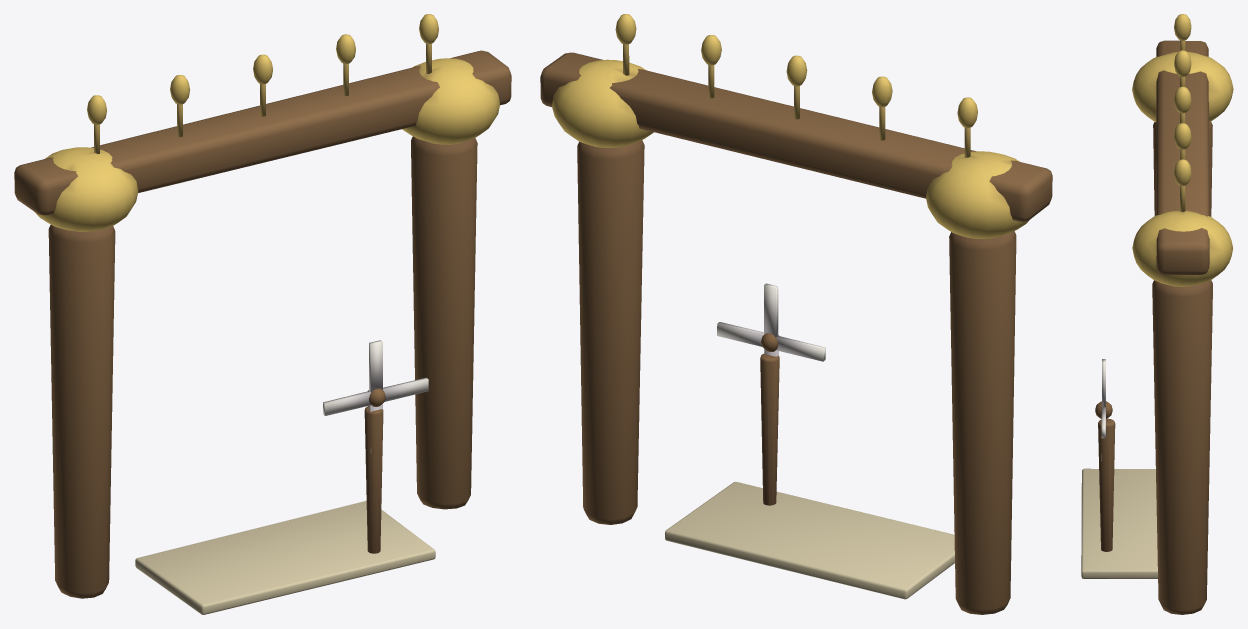
The picture shows the model from 3 angles, left to right: view 1: azimuth 30°, elevation 25°; view 2: azimuth 150°, elevation 25°; view 3: azimuth 270°, elevation 25°; orthographic projection. The views are drawn at different scales.
Visible parts, largest first — view 1: gate_4136e5ae; view 2: gate_4136e5ae; view 3: gate_4136e5ae.
Boxes of the visible parts, x1=… form: gate_4136e5ae: x1=14, y1=14, x2=511, y2=614; gate_4136e5ae: x1=540, y1=14, x2=1052, y2=614; gate_4136e5ae: x1=1081, y1=14, x2=1233, y2=614.
Size of the model in its own units: 4.87 by 4.82 by 1.5.
